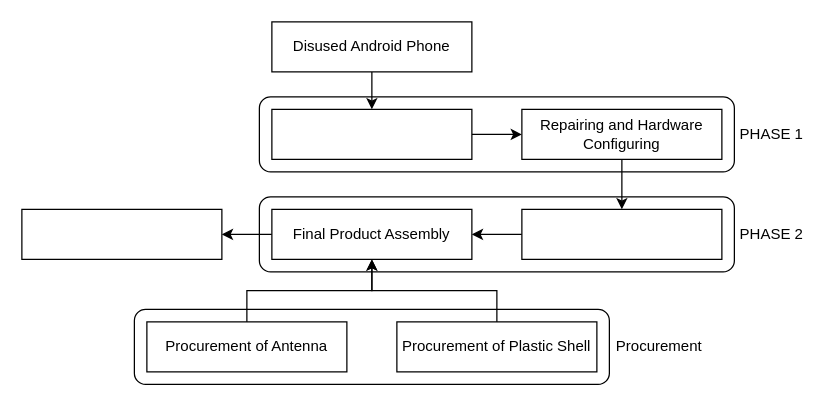
Image size: 831x406. Some labels were removed from this diagram. The shapes that lost their labels are listed below. From the top down, each one's centre as x and y in pixels, then its label:
At point 371,133: "Cleaning and Disassembling".
At point 121,233: "Packing and Distributing".
At point 621,233: "Firmware Flashing".
